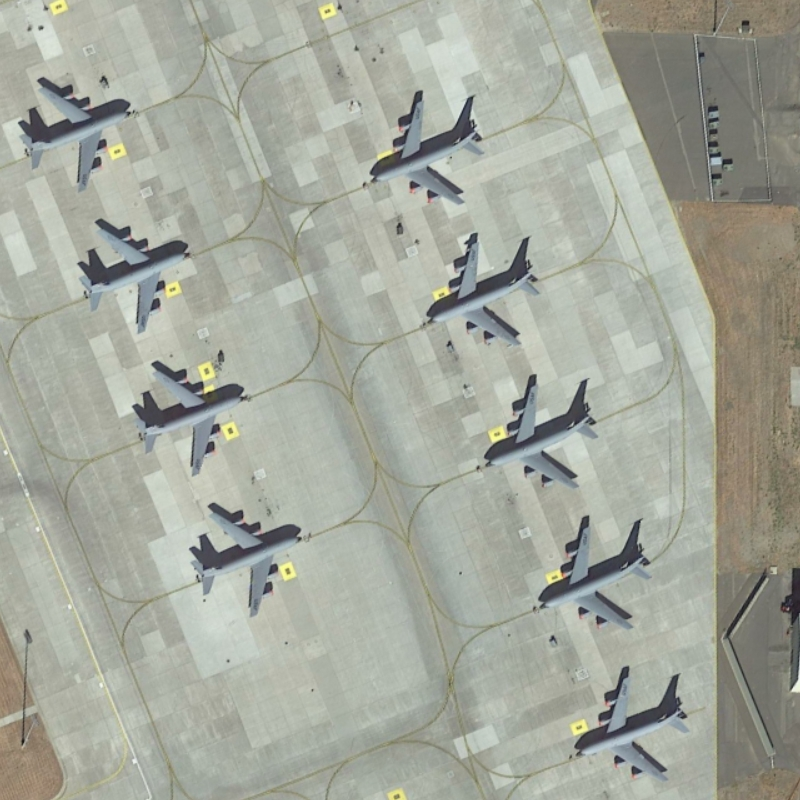A14: (360, 79, 491, 215), (479, 367, 616, 495), (10, 68, 146, 196), (185, 495, 322, 622), (536, 508, 660, 641), (421, 230, 548, 354), (75, 211, 198, 338), (572, 660, 694, 786), (128, 355, 254, 475)
